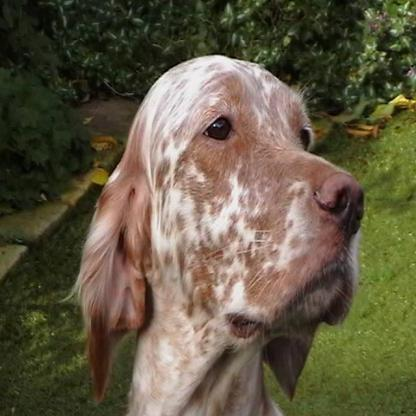English_setter: (56, 51, 364, 414)
